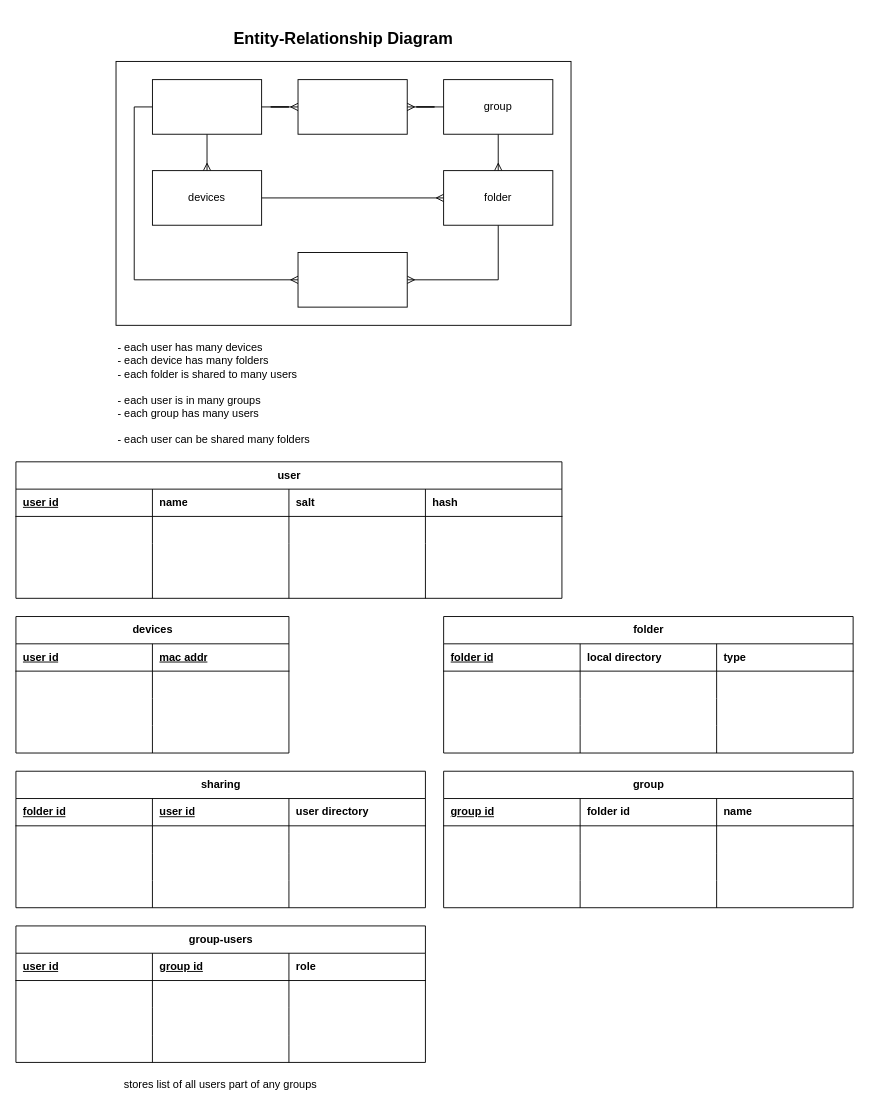
Some shapes in this 869 by 1115 pixel diagram are drawn without their labels. Each missing label, with the centre of its shape:
"groupuser" belongs at (352,106).
"share" belongs at (352,279).
"users" belongs at (207,106).
